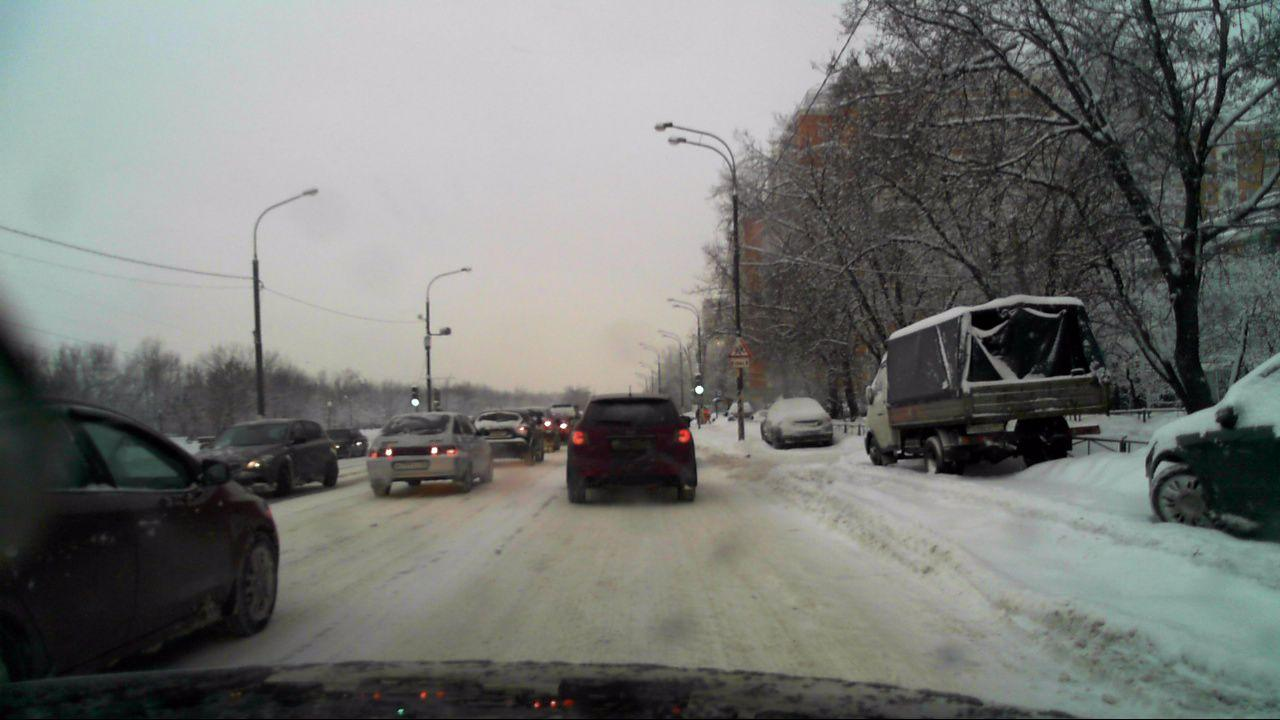road_sign: (728, 336, 752, 357), (729, 358, 749, 367)
traffic light: (693, 373, 705, 397), (410, 385, 420, 407)
